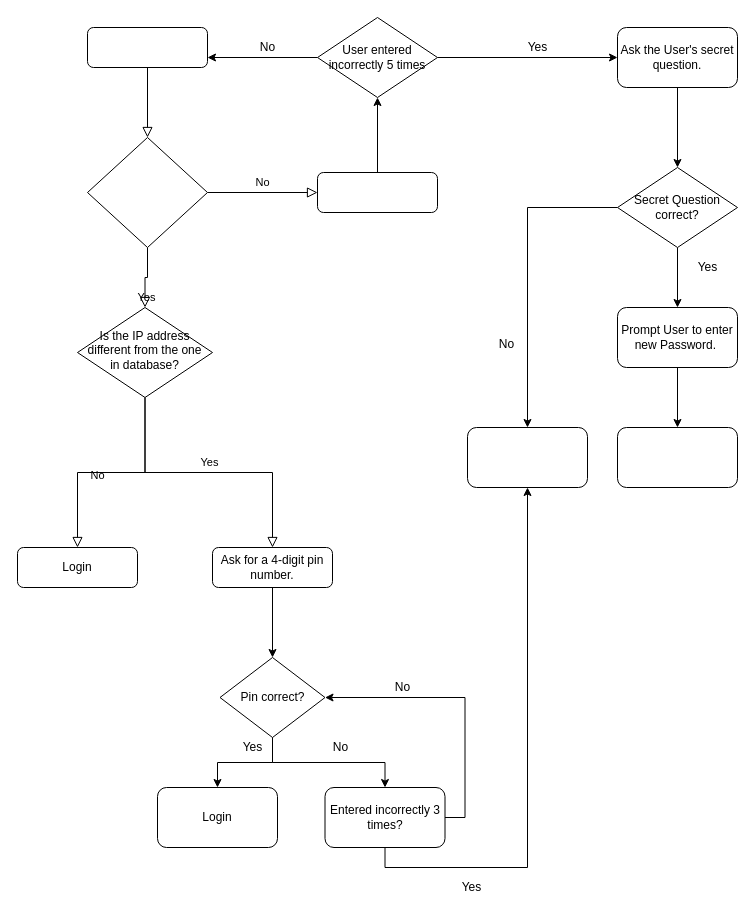
Image size: 755x915. Some labels were removed from this diagram. Here are the shapes that lost their labels. From the top down, the centre of each, then its label:
[147,47]: User Login
[147,192]: Username & Password Correct?
[377,192]: Enter Details again
[527,457]: Prompt user to contact System Administration
[677,457]: Go back to the Start
